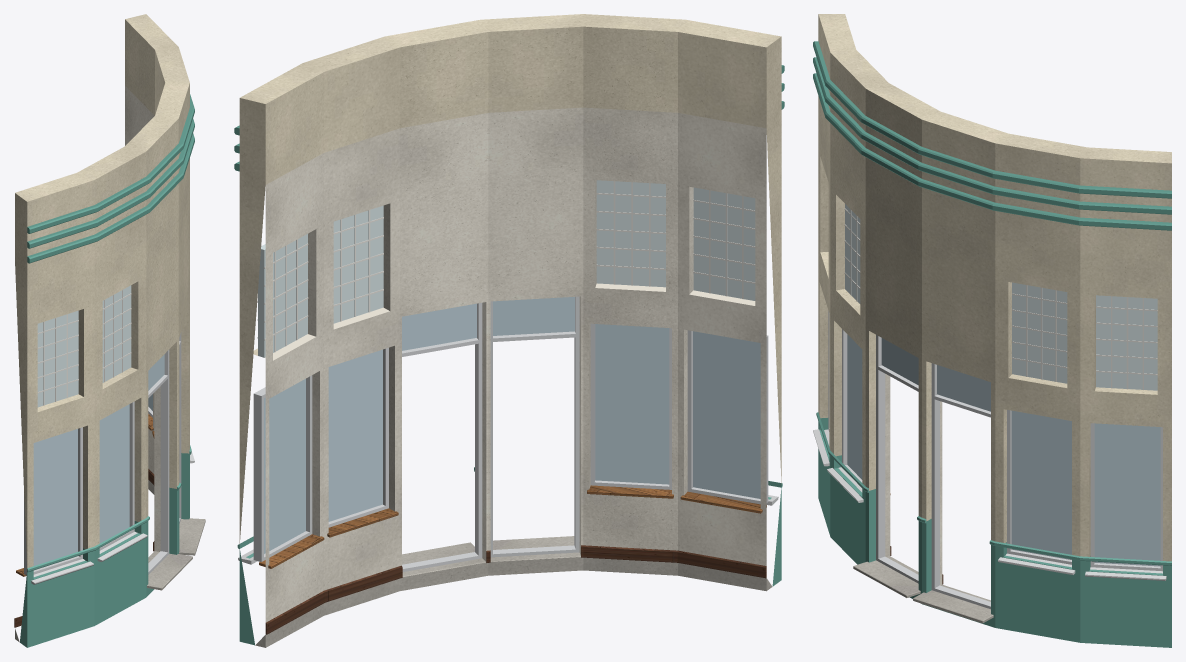
Rendered from arc_wall.glb.
3 renders of one model, left to right at view 1: azimuth 30°, elevation 25°; view 2: azimuth 150°, elevation 25°; view 3: azimuth 270°, elevation 25°, orthographic. The views are drawn at different scales.
Parts seen in each view (by area): view 1: arc_wall_render, arc_wall_tile_g, arc_wall_glass, arc_wall_gblock, arc_wall_trim_g, arc_wall_frame, arc_wall_plaster, arc_wall_concrete, arc_wall_mortar, arc_wall_coping; view 2: arc_wall_plaster, arc_wall_render, arc_wall_glass, arc_wall_gblock, arc_wall_frame, arc_wall_concrete, arc_wall_mortar, arc_wall_dkwood, arc_wall_wood, arc_wall_tile_g; view 3: arc_wall_render, arc_wall_glass, arc_wall_tile_g, arc_wall_gblock, arc_wall_trim_g, arc_wall_frame, arc_wall_mortar, arc_wall_concrete, arc_wall_coping, arc_wall_plaster.
Boxes of the visible parts, <box> form: arc_wall_render: <box>15,14,189,569</box>; arc_wall_tile_g: <box>20,445,191,647</box>; arc_wall_glass: <box>33,354,164,565</box>; arc_wall_gblock: <box>37,285,131,407</box>; arc_wall_trim_g: <box>27,94,194,263</box>; arc_wall_frame: <box>24,332,181,575</box>; arc_wall_plaster: <box>125,86,160,551</box>; arc_wall_concrete: <box>15,480,205,641</box>; arc_wall_mortar: <box>37,290,131,405</box>; arc_wall_coping: <box>31,451,194,584</box>; arc_wall_plaster: <box>265,107,766,622</box>; arc_wall_render: <box>239,14,781,543</box>; arc_wall_glass: <box>264,297,760,553</box>; arc_wall_gblock: <box>258,180,755,357</box>; arc_wall_frame: <box>253,296,768,571</box>; arc_wall_concrete: <box>255,536,772,647</box>; arc_wall_mortar: <box>257,181,755,352</box>; arc_wall_dkwood: <box>265,545,766,634</box>; arc_wall_wood: <box>259,485,766,568</box>; arc_wall_tile_g: <box>237,467,782,645</box>; arc_wall_render: <box>818,14,1171,561</box>; arc_wall_glass: <box>847,334,1160,566</box>; arc_wall_tile_g: <box>816,412,1171,647</box>; arc_wall_gblock: <box>845,204,1157,390</box>; arc_wall_trim_g: <box>813,41,1171,230</box>; arc_wall_frame: <box>828,311,1162,609</box>; arc_wall_mortar: <box>844,208,1157,389</box>; arc_wall_concrete: <box>853,556,993,623</box>; arc_wall_coping: <box>813,429,1166,580</box>; arc_wall_plaster: <box>885,374,942,585</box>.
Size of the model in its own units: 4.06 by 6.05 by 4.06.
Materials: 12 (5 with a texture image).
